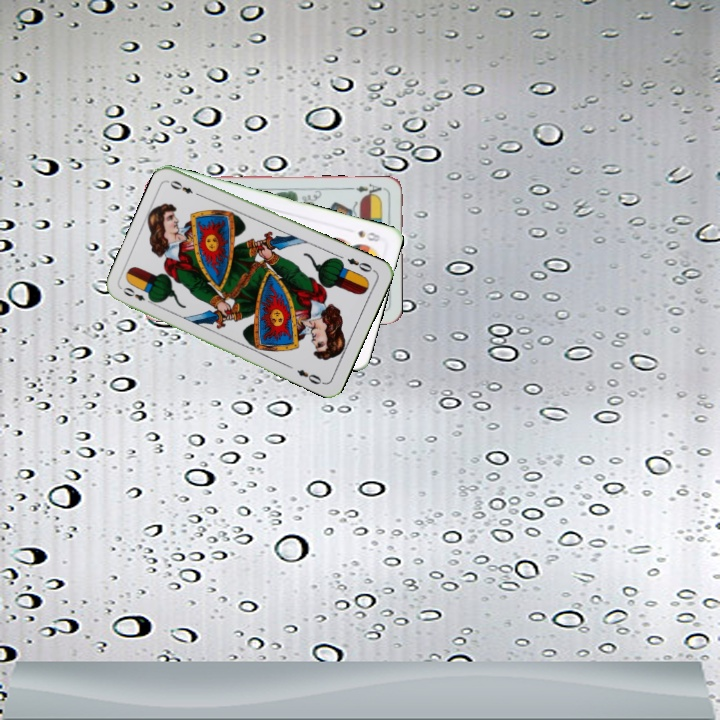EA: (352, 180, 387, 199)
EO: (119, 283, 157, 307), (343, 254, 375, 275)
S8: (354, 226, 384, 244)
